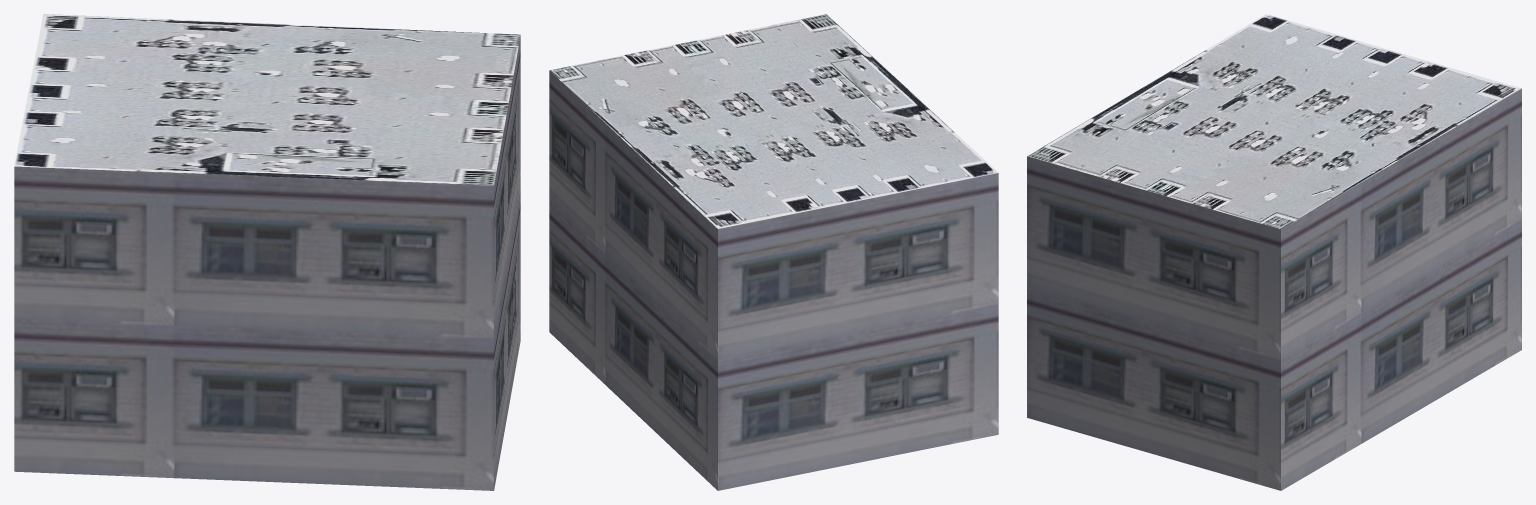
Rendered from ResTex__3909.fbx.
The picture shows the model from 3 angles, left to right: view 1: azimuth 30°, elevation 25°; view 2: azimuth 150°, elevation 25°; view 3: azimuth 270°, elevation 25°; orthographic projection. The views are drawn at different scales.
Parts seen in each view (by area): view 1: CityEngineMaterial_1_m, CityEngineMaterial_8_m; view 2: CityEngineMaterial_1_m, CityEngineMaterial_8_m; view 3: CityEngineMaterial_1_m, CityEngineMaterial_8_m.
Boxes of the visible parts, <box> form: CityEngineMaterial_1_m: <box>14,36,520,490</box>; CityEngineMaterial_8_m: <box>14,14,520,185</box>; CityEngineMaterial_1_m: <box>549,70,998,490</box>; CityEngineMaterial_8_m: <box>549,14,997,228</box>; CityEngineMaterial_1_m: <box>1027,88,1521,490</box>; CityEngineMaterial_8_m: <box>1027,14,1521,229</box>.
Size of the model in its own units: 10.6 by 6 by 10.28.
Materials: 2 (2 with a texture image).
